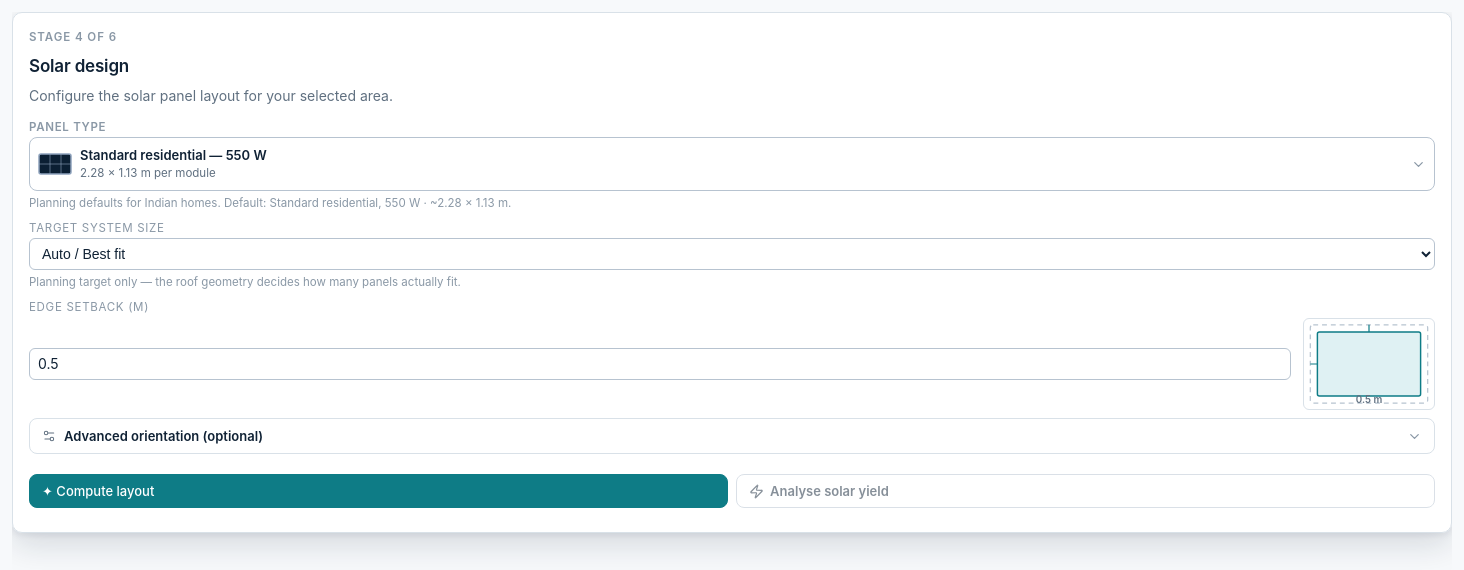
Test: DesignPanel solar design › opens the rich preset selector and switches panel type
The image size is (1464, 570).
Click the button named "Panel type".
click(55, 164)  # box top-left (29, 137), bottom-right (1435, 191)
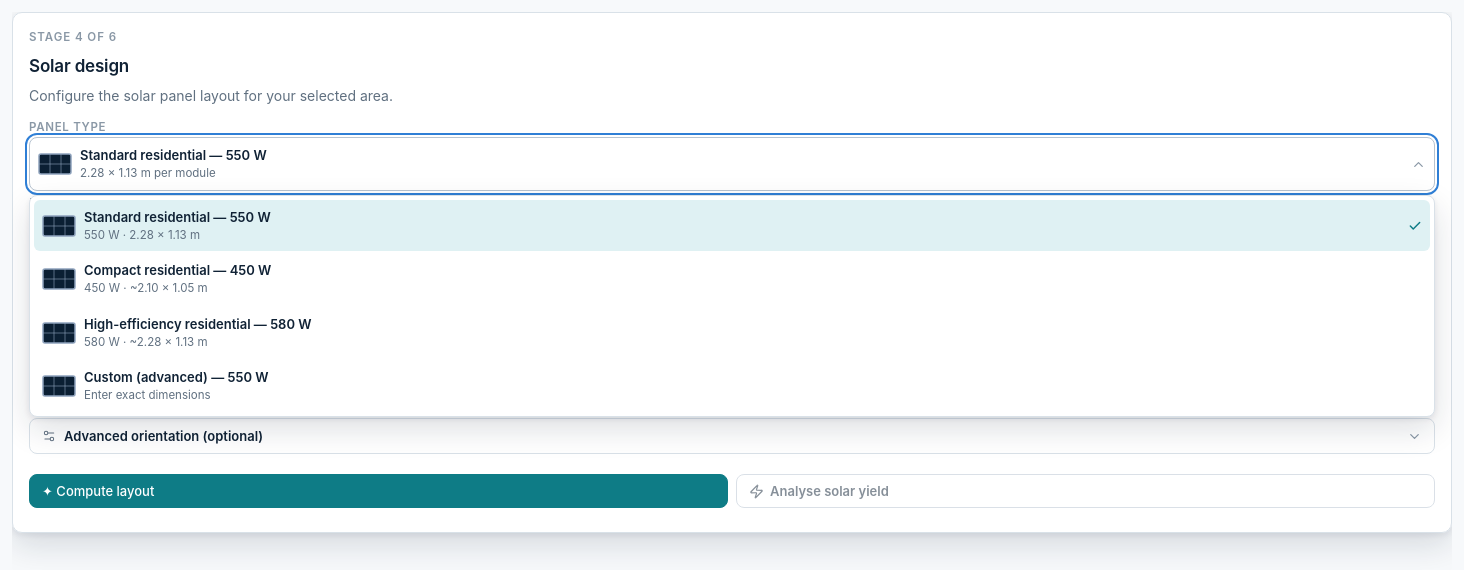
Expected: the list named "Panel type options" is shown, top-left (29, 195), bottom-right (1435, 417)
Click the option "Compact residential — 450 W 450 W · ~2.10 × 1.05 m".
click(59, 279)  # box top-left (34, 253), bottom-right (1430, 305)
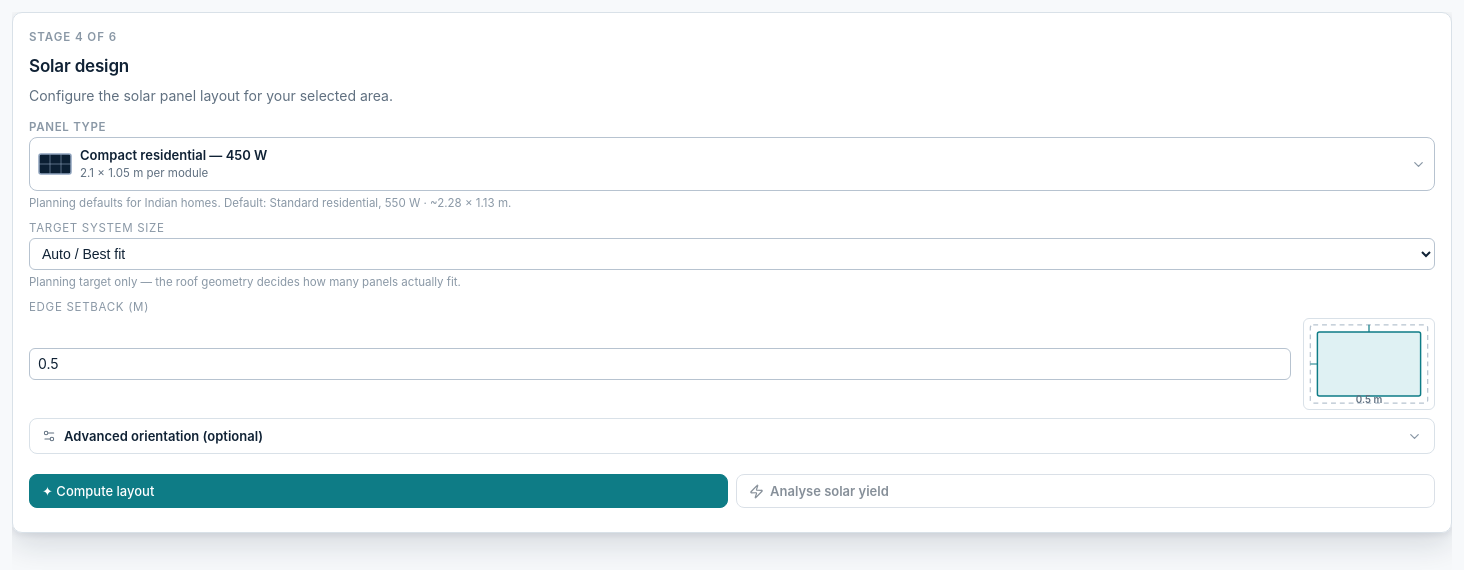
Expected: the button named "Panel type" shows "Compact residential", top-left (29, 137), bottom-right (1435, 191)
